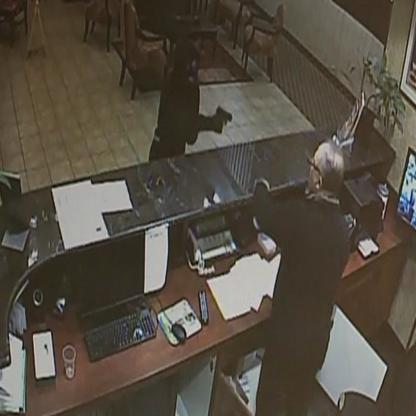pistols: (211, 105, 235, 139)
